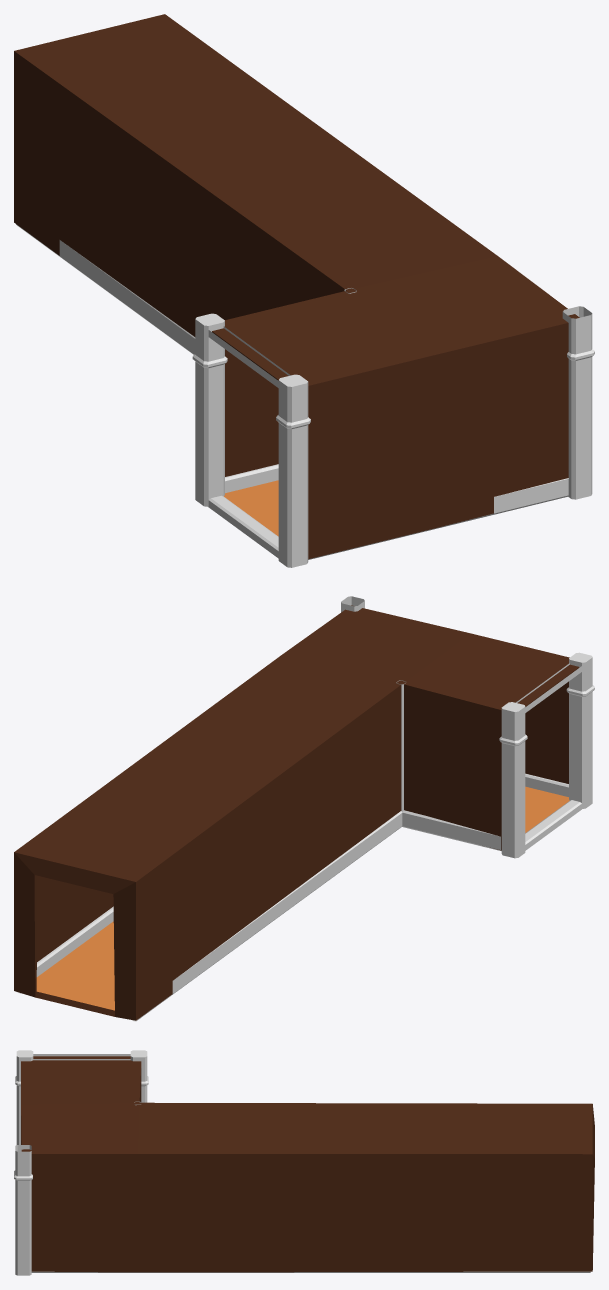
File: InitialCorridor2.fbx
3 renders of one model, top to bottom at view 1: azimuth 30°, elevation 25°; view 2: azimuth 150°, elevation 25°; view 3: azimuth 270°, elevation 25°, orthographic. The views are drawn at different scales.
Visible parts, largest first — view 1: Initial_GangTestU.001, Uebergang.001, EdgePillar.005, LongRailU.004, ShortRailM.005, ShortRailS.005; view 2: Initial_GangTestU.001, Uebergang.001, LongRailU.004, ShortRailS.005, ShortRailM.005; view 3: Initial_GangTestU.001, EdgePillar.005, Uebergang.001, LongRailU.004.
Boxes of the visible parts, x1,y1,x2,y2 form: Initial_GangTestU.001: (14, 14, 579, 559); Uebergang.001: (192, 313, 310, 567); EdgePillar.005: (562, 306, 594, 499); LongRailU.004: (16, 224, 195, 354); ShortRailM.005: (308, 478, 568, 559); ShortRailS.005: (225, 464, 278, 493); Initial_GangTestU.001: (14, 605, 579, 1020); Uebergang.001: (499, 652, 594, 858); LongRailU.004: (16, 811, 402, 1021); ShortRailS.005: (402, 810, 501, 850); ShortRailM.005: (525, 773, 568, 796); Initial_GangTestU.001: (21, 1056, 594, 1272); EdgePillar.005: (14, 1145, 32, 1275); Uebergang.001: (15, 1050, 148, 1144); LongRailU.004: (31, 1271, 590, 1272).
Size of the model in its own units: 467 by 263 by 1117.
